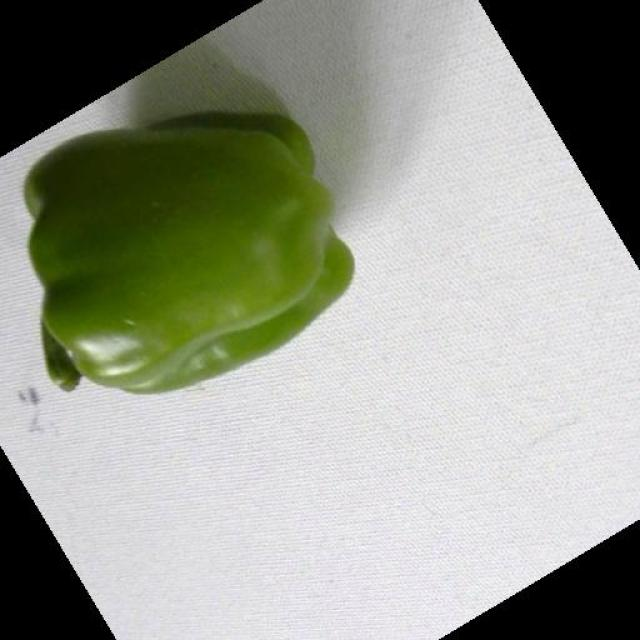Fresh_Capsicum: (4, 134, 364, 354)
